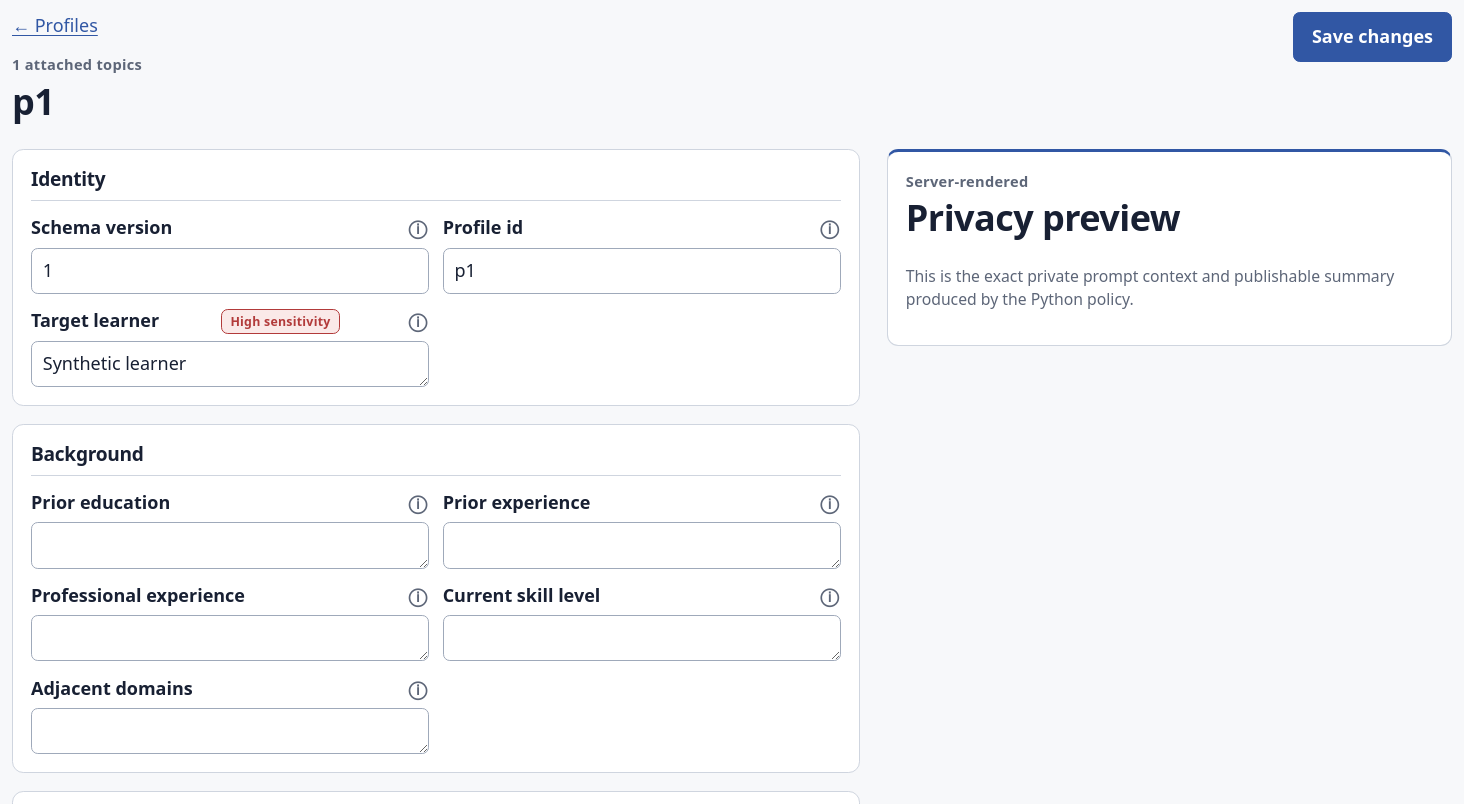
Test case: ProfileEditorPage › keeps unsaved input after a 409 and reloads only when chosen
Replace the text in the text box named "Target learner" with "Unsaved value" at (230, 364), box x1=31 y1=341 x2=429 y2=387
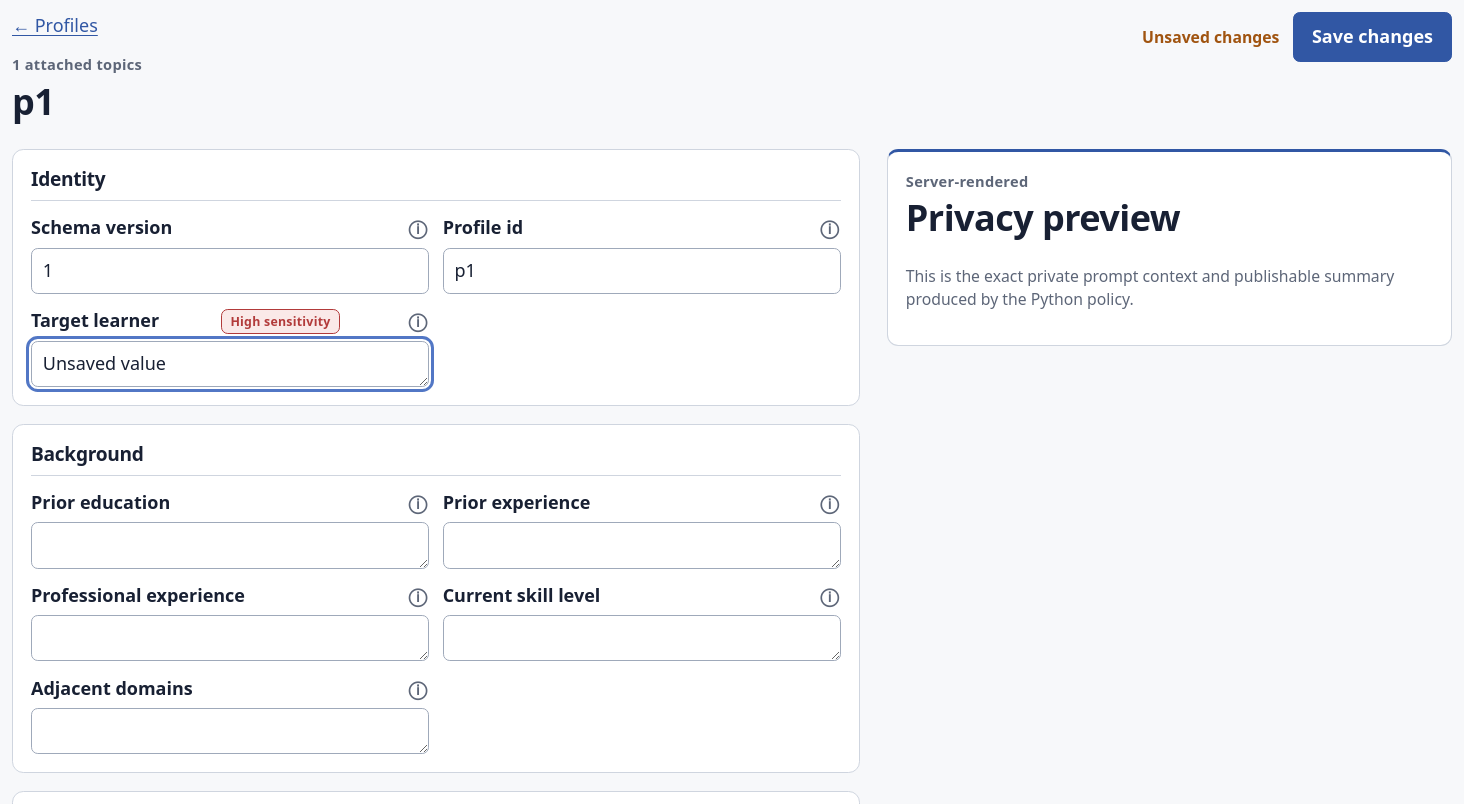
Click the button "Save changes" at (1372, 37), box x1=1293 y1=12 x2=1452 y2=62
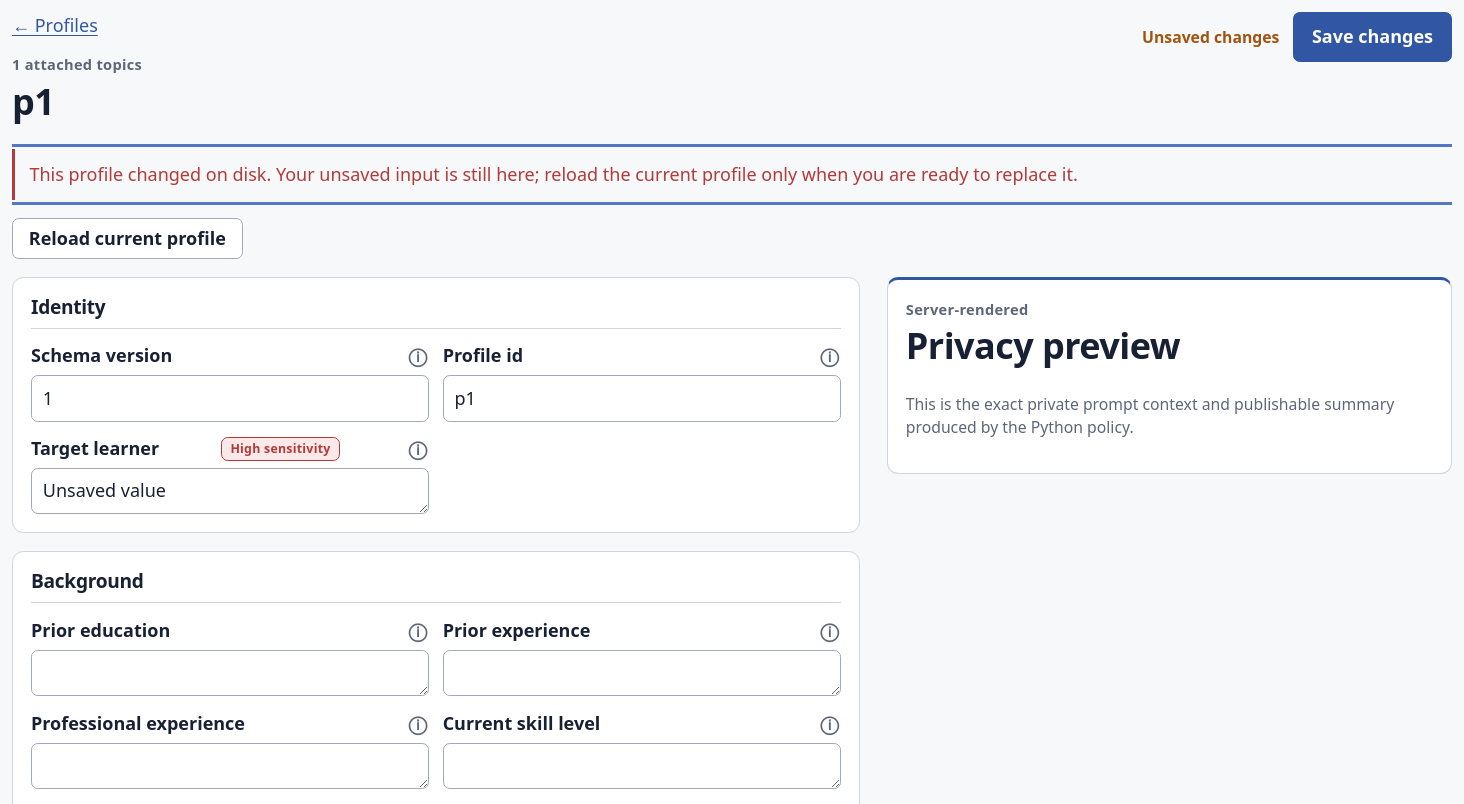
Check: the message shows "changed on disk", box x1=29 y1=162 x2=1078 y2=186
Click the button "Reload current profile" at (127, 238), box x1=12 y1=218 x2=242 y2=259
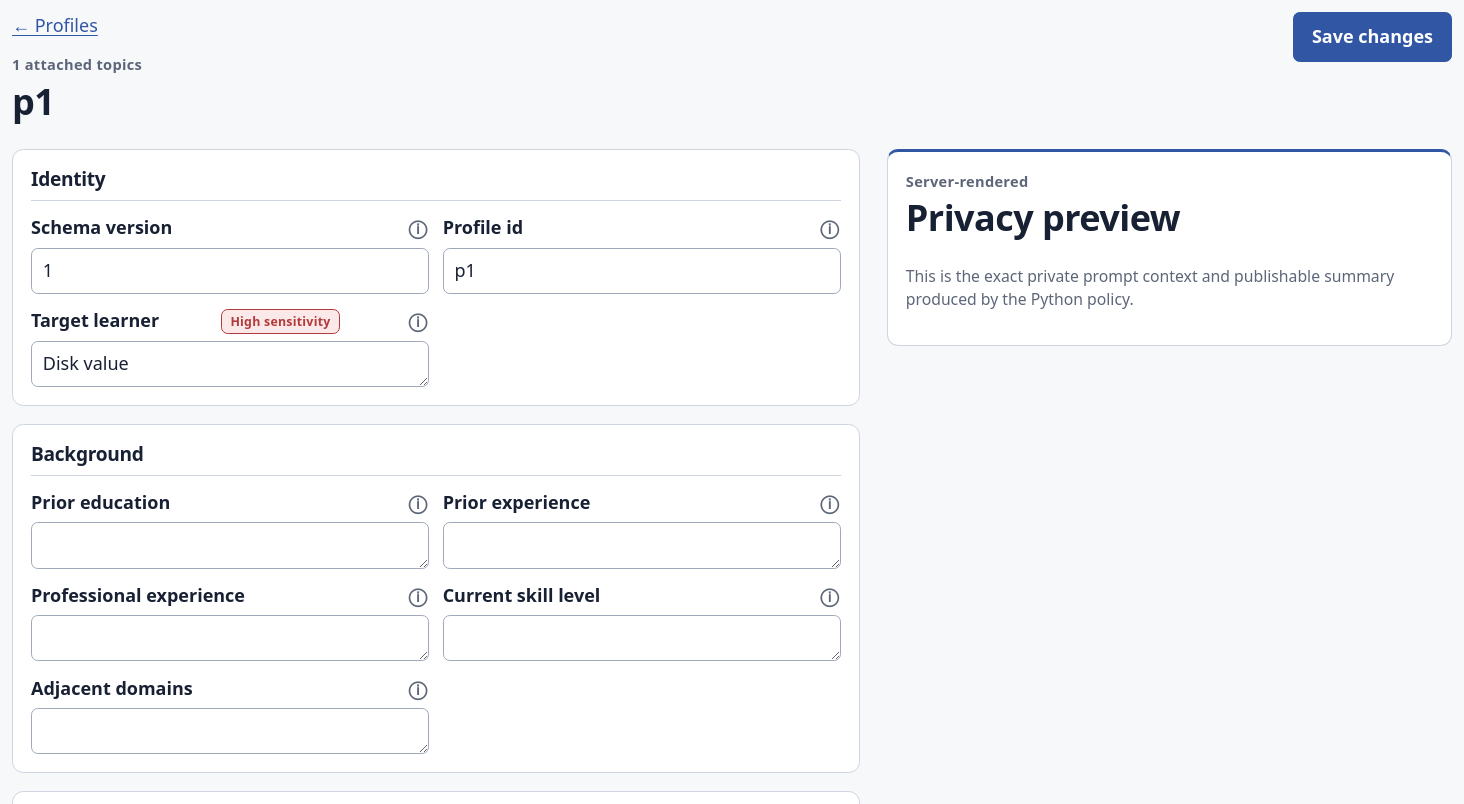
Check: the text box showing "Disk value" is shown, box x1=31 y1=341 x2=429 y2=387
